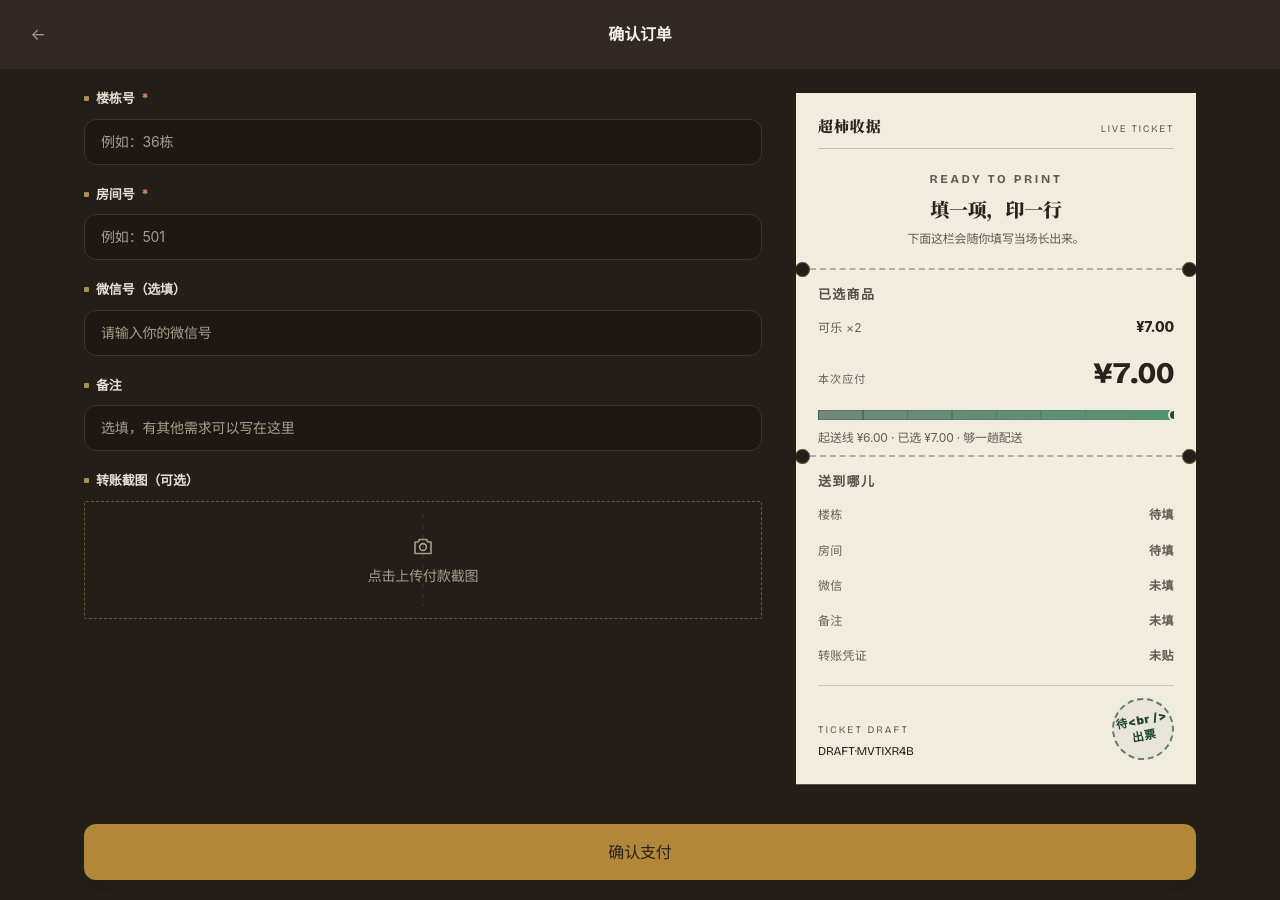
it: OrderConfirmPage 剩余分支 › 校验失败的输入框带 aria-invalid 并指向错误文案节点
The image size is (1280, 900).
Click the button "确认支付" at (640, 852), box [84,824,1196,880]
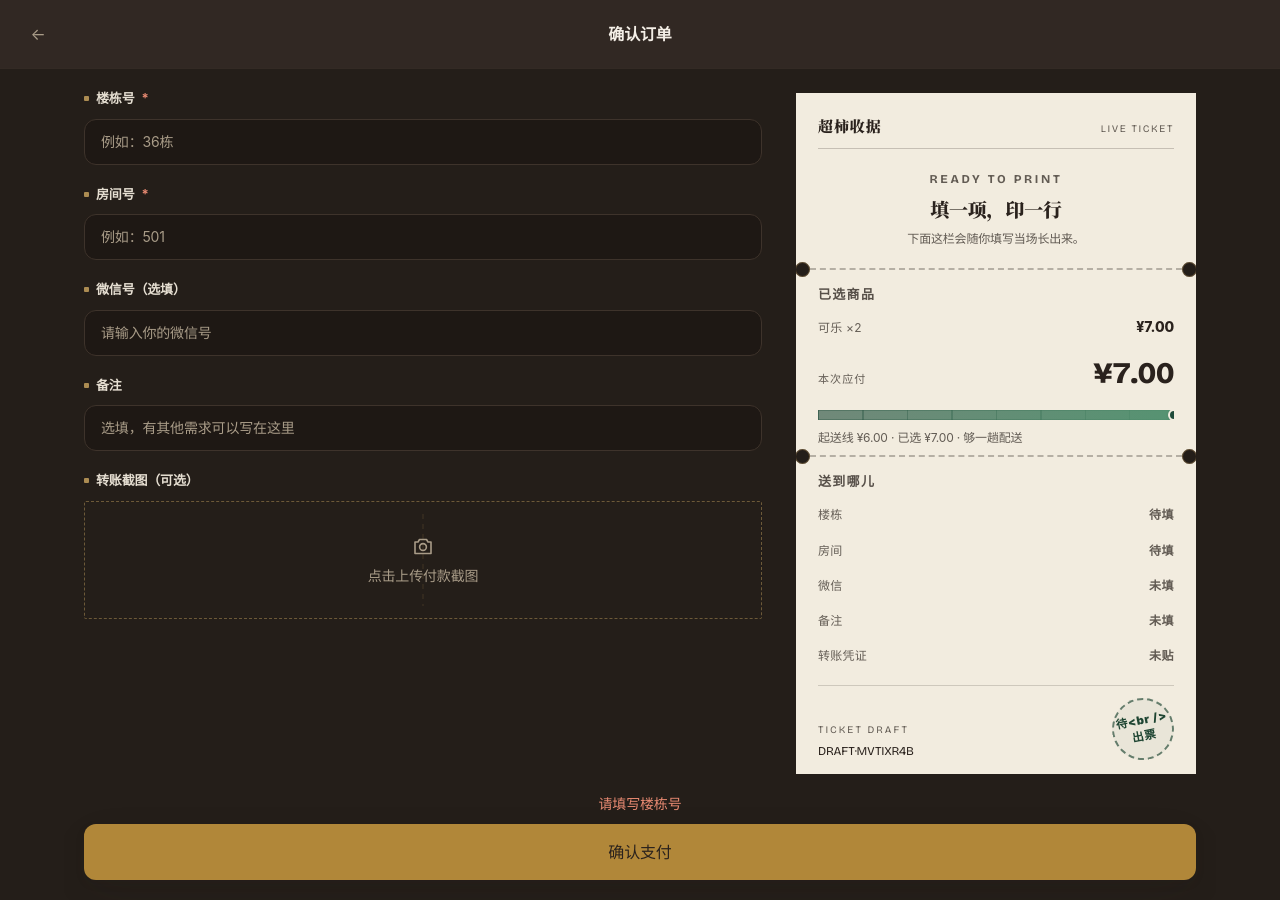
Check: the text "请填写楼栋号" is shown, box [598,795,682,812]
